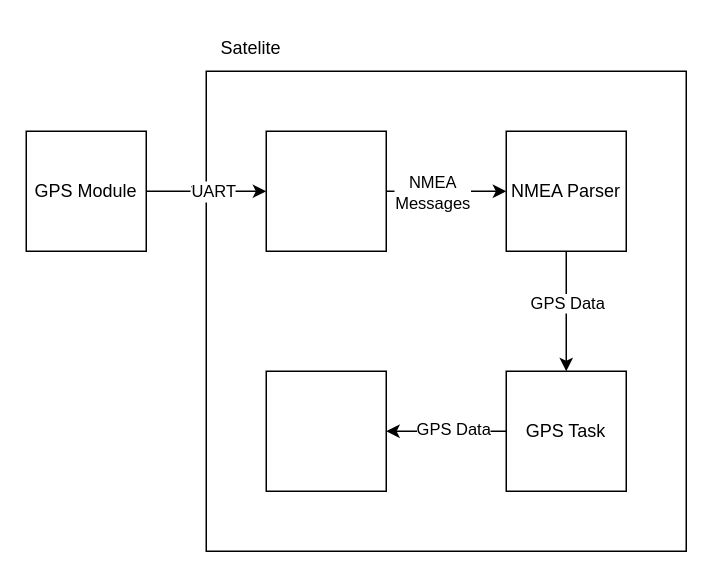
Some shapes in this 713 by 578 pixel diagram are drawn without their labels. Each missing label, with the centre of its shape:
"GPS Driver" goes at point (325, 190).
"OBDH" goes at point (325, 430).
